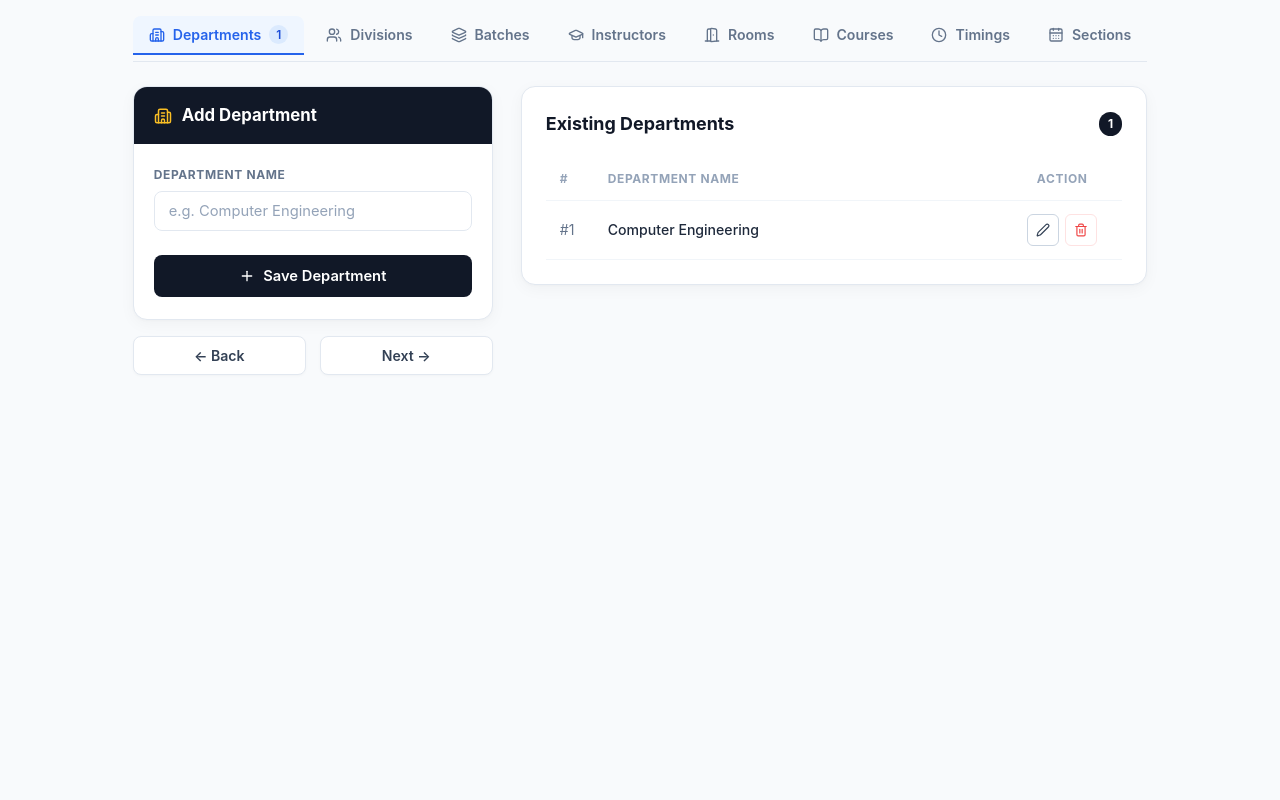
DataEntry Component Tests - Layout & Edit Operations › 7. Opens Delete Confirmation dialog with safety warning
The image size is (1280, 800).
Expected: the text "Computer Engineering" is shown, [594,200,1002,259]
What coordinates should you click on to do the following:
click the button named "delete"
I would click on:
 (1081, 230)
Its box is [1065,214,1097,246].
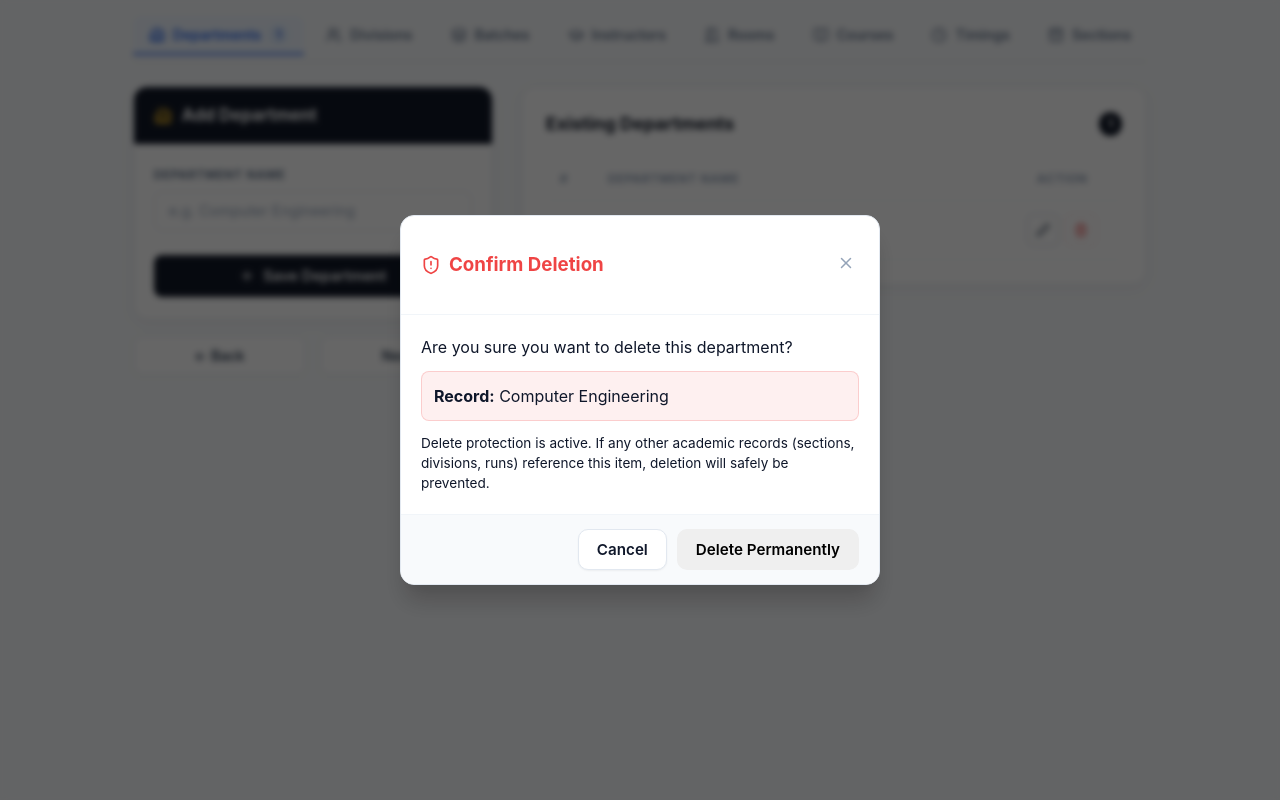
Now the heading "Confirm Deletion" is shown, box [421,251,604,279]
Now the text "Delete protection is active" is shown, box [421,435,854,492]
